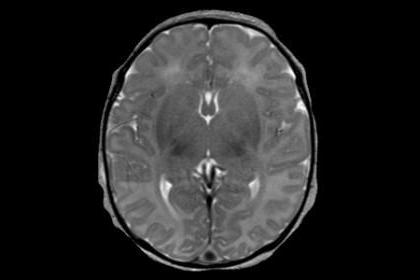Normal_Brain: (77, 1, 317, 280)
